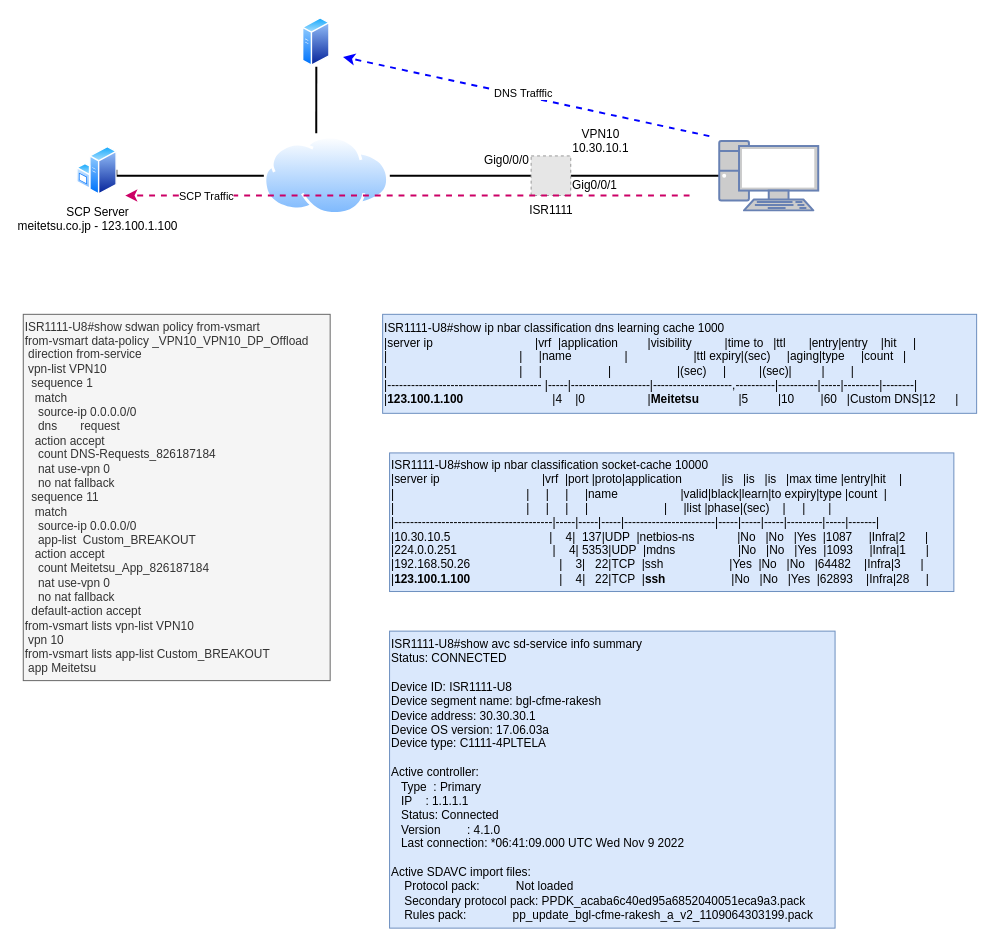
This 994x945 diagram has some shape labels left out. Grey dashed boxes stand in for pictures. The shapes that lost their labels are listed below. From the top down, each one's centre as x and y in pixels, then its label:
At point 316,41: "DNS Server - 8.8.8.8".
At point 768,175: "Win-10 10.30.10.5/24".
